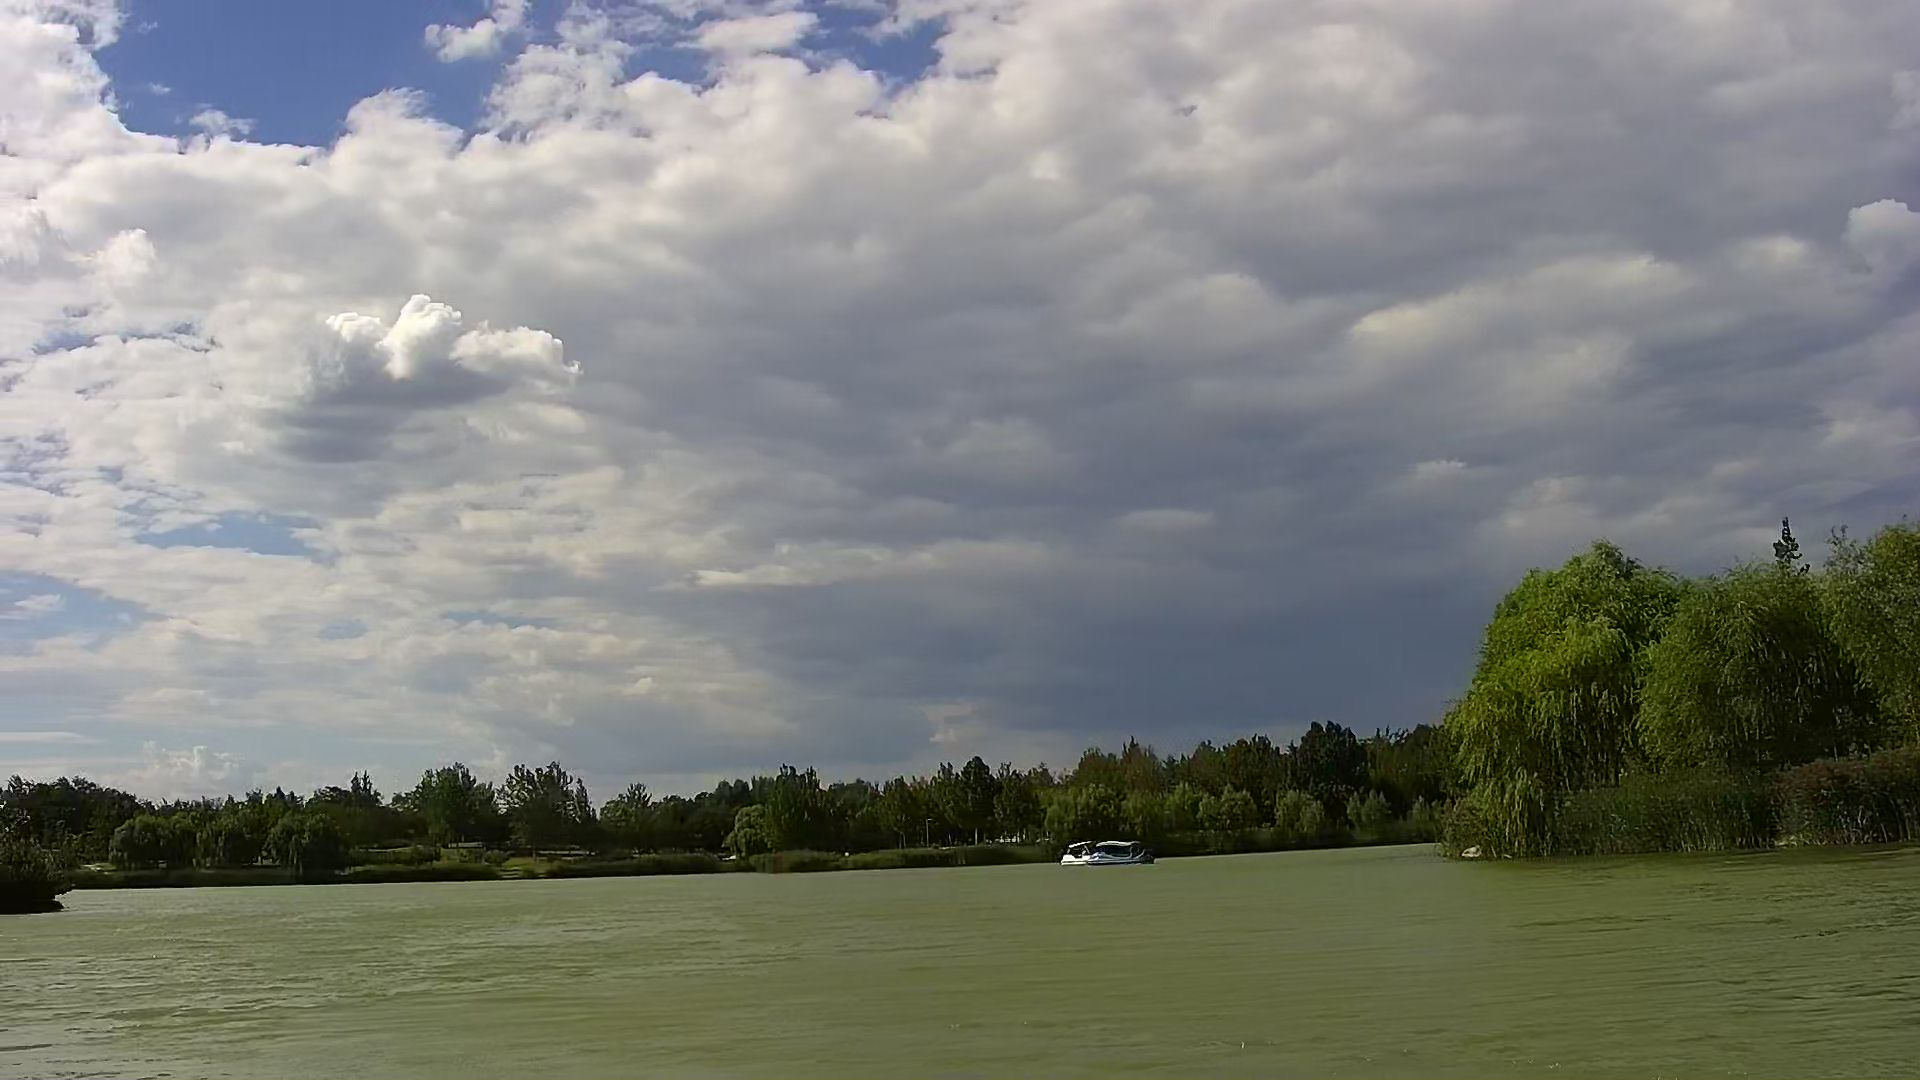boat: (1088, 841, 1155, 868), (1058, 841, 1110, 865)
rock: (1458, 844, 1487, 862)
